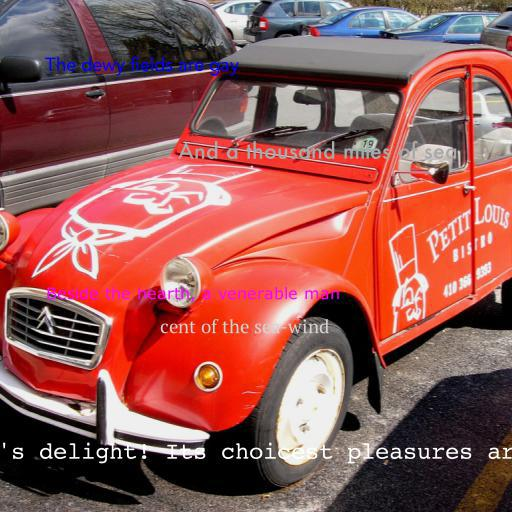Avenir: (45, 56, 239, 76)
Courier: (0, 442, 512, 464)
Futura: (178, 140, 458, 159)
PT Serif: (159, 319, 329, 334)
Verdana: (46, 287, 340, 303)
